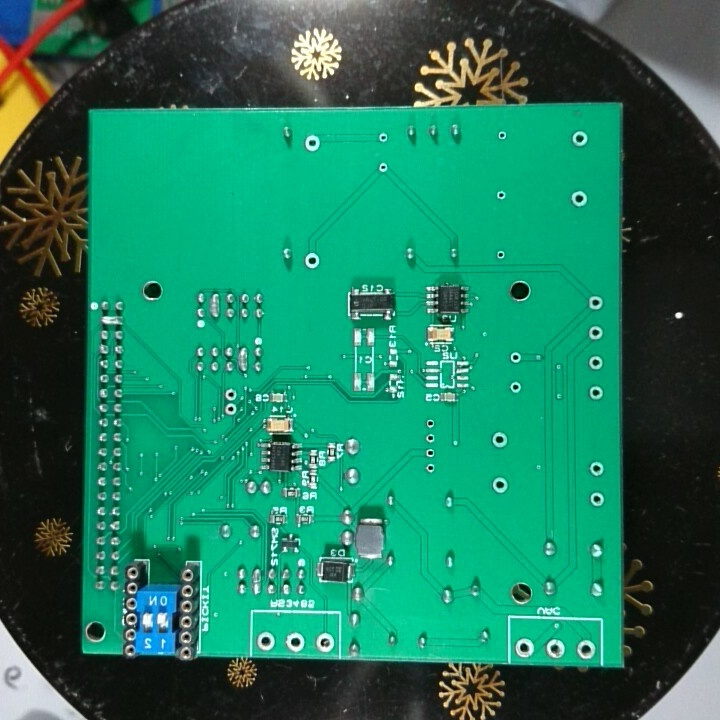F: (310, 629, 337, 654), (283, 628, 308, 655), (542, 635, 568, 660), (574, 637, 599, 661), (513, 635, 539, 658), (569, 129, 594, 152), (487, 428, 510, 453), (567, 188, 592, 210), (490, 474, 512, 498), (586, 458, 610, 480), (303, 132, 324, 157), (256, 630, 277, 654), (302, 250, 324, 272), (585, 352, 607, 373), (587, 489, 609, 510), (585, 294, 607, 314), (586, 323, 607, 343), (587, 380, 606, 402), (508, 376, 524, 399), (221, 386, 241, 402), (494, 128, 513, 144), (375, 129, 391, 147), (509, 349, 525, 366), (421, 460, 439, 475), (376, 159, 390, 176), (422, 446, 439, 460), (493, 189, 509, 203), (494, 248, 510, 262), (224, 402, 238, 418), (423, 416, 437, 431), (423, 432, 437, 445)
P: (249, 564, 264, 600), (96, 314, 127, 329), (236, 345, 250, 374), (209, 289, 221, 320)
